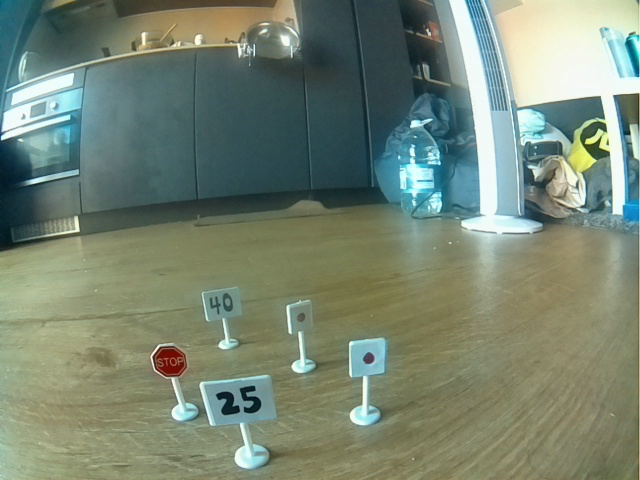red light: (351, 342, 383, 375), (290, 306, 312, 331)
speed 25: (211, 382, 269, 420)
speed 40: (205, 290, 241, 317)
stop: (150, 344, 188, 378)
